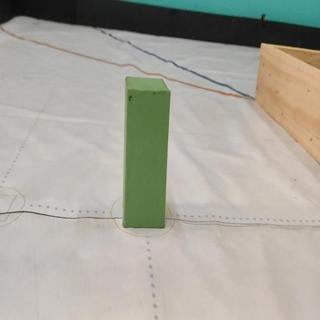greenbox: (124, 75, 172, 230)
